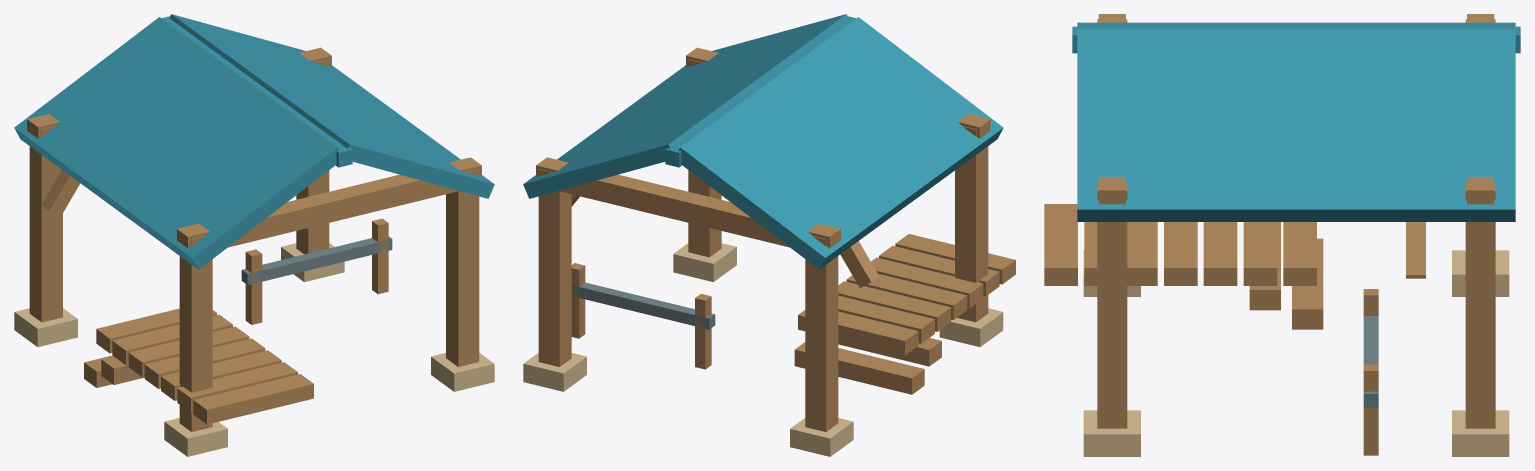
Rendered from cart-station.source.glb.
The picture shows the model from 3 angles, left to right: view 1: azimuth 30°, elevation 25°; view 2: azimuth 150°, elevation 25°; view 3: azimuth 270°, elevation 25°; orthographic projection. The views are drawn at different scales.
Parts seen in each view (by area): view 1: cart-station-left-roof-plane-mesh, cart-station-right-roof-plane-mesh, cart-station-crossbeam-1.48-mesh, cart-station-post-front-right-mesh, cart-station-post-rear-left-mesh, cart-station-post-front-left-mesh, cart-station-platform-plank-1.34-mesh, cart-station-hitch-rail-mesh, cart-station-platform-plank-1.02-mesh, cart-station-foot-front-right-mesh, cart-station-foot-rear-left-mesh, cart-station-foot-front-left-mesh (+14 smaller); view 2: cart-station-left-roof-plane-mesh, cart-station-right-roof-plane-mesh, cart-station-crossbeam--1.48-mesh, cart-station-post-rear-right-mesh, cart-station-post-rear-left-mesh, cart-station-post-front-left-mesh, cart-station-step--0.64-mesh, cart-station-platform-plank--0.58-mesh, cart-station-hitch-rail-mesh, cart-station-platform-plank-0.06000000000000005-mesh, cart-station-platform-plank-0.7000000000000001-mesh, cart-station-platform-plank-0.38000000000000006-mesh (+14 smaller); view 3: cart-station-right-roof-plane-mesh, cart-station-post-rear-right-mesh, cart-station-post-front-right-mesh, cart-station-left-roof-plane-mesh, cart-station-platform-plank-1.34-mesh, cart-station-platform-plank--0.25999999999999995-mesh, cart-station-platform-plank-0.06000000000000005-mesh, cart-station-foot-rear-right-mesh, cart-station-foot-front-right-mesh, cart-station-platform-plank--0.58-mesh, cart-station-platform-plank-0.38000000000000006-mesh, cart-station-platform-plank-0.7000000000000001-mesh (+10 smaller).
Part boxes in pixels (left/top/right/bottom): cart-station-left-roof-plane-mesh: left=14, top=17, right=339, bottom=269; cart-station-right-roof-plane-mesh: left=169, top=14, right=494, bottom=198; cart-station-crossbeam-1.48-mesh: left=177, top=157, right=481, bottom=248; cart-station-post-front-right-mesh: left=446, top=169, right=479, bottom=366; cart-station-post-rear-left-mesh: left=29, top=126, right=62, bottom=322; cart-station-post-front-left-mesh: left=179, top=236, right=212, bottom=431; cart-station-platform-plank-1.34-mesh: left=193, top=374, right=313, bottom=424; cart-station-hitch-rail-mesh: left=241, top=236, right=392, bottom=284; cart-station-platform-plank-1.02-mesh: left=177, top=362, right=297, bottom=412; cart-station-foot-front-right-mesh: left=431, top=353, right=494, bottom=391; cart-station-foot-rear-left-mesh: left=14, top=308, right=77, bottom=346; cart-station-foot-front-left-mesh: left=164, top=418, right=227, bottom=456; cart-station-left-roof-plane-mesh: left=678, top=17, right=1003, bottom=269; cart-station-right-roof-plane-mesh: left=523, top=14, right=848, bottom=198; cart-station-crossbeam--1.48-mesh: left=536, top=157, right=840, bottom=248; cart-station-post-rear-right-mesh: left=538, top=169, right=571, bottom=366; cart-station-post-rear-left-mesh: left=805, top=236, right=838, bottom=431; cart-station-post-front-left-mesh: left=955, top=126, right=988, bottom=322; cart-station-step--0.64-mesh: left=794, top=342, right=924, bottom=394; cart-station-platform-plank--0.58-mesh: left=798, top=310, right=918, bottom=355; cart-station-hitch-rail-mesh: left=571, top=282, right=715, bottom=329; cart-station-platform-plank-0.06000000000000005-mesh: left=838, top=281, right=950, bottom=331; cart-station-platform-plank-0.7000000000000001-mesh: left=871, top=257, right=983, bottom=308; cart-station-platform-plank-0.38000000000000006-mesh: left=846, top=273, right=967, bottom=319; cart-station-right-roof-plane-mesh: left=1077, top=29, right=1515, bottom=221; cart-station-post-rear-right-mesh: left=1465, top=183, right=1495, bottom=428; cart-station-post-front-right-mesh: left=1097, top=183, right=1127, bottom=428; cart-station-left-roof-plane-mesh: left=1077, top=22, right=1515, bottom=28; cart-station-platform-plank-1.34-mesh: left=1044, top=204, right=1077, bottom=285; cart-station-platform-plank--0.25999999999999995-mesh: left=1243, top=222, right=1277, bottom=285; cart-station-platform-plank-0.06000000000000005-mesh: left=1203, top=222, right=1237, bottom=285; cart-station-foot-rear-right-mesh: left=1452, top=410, right=1509, bottom=456; cart-station-foot-front-right-mesh: left=1083, top=410, right=1140, bottom=456; cart-station-platform-plank--0.58-mesh: left=1283, top=222, right=1316, bottom=285; cart-station-platform-plank-0.38000000000000006-mesh: left=1164, top=222, right=1197, bottom=285; cart-station-platform-plank-0.7000000000000001-mesh: left=1127, top=222, right=1157, bottom=285.
Bounding box in the file's own units: 3.72 × 3 × 3.82.
